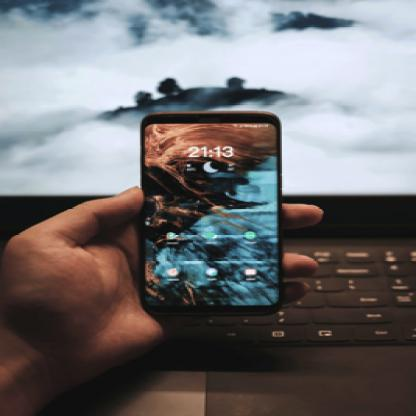cell-phone: (134, 108, 301, 316)
